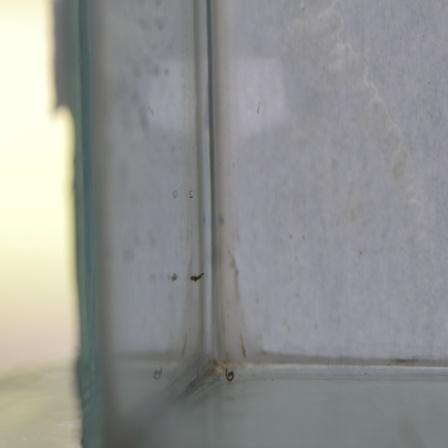Jentik-Nyamuk: (188, 268, 207, 287), (222, 363, 237, 385)
